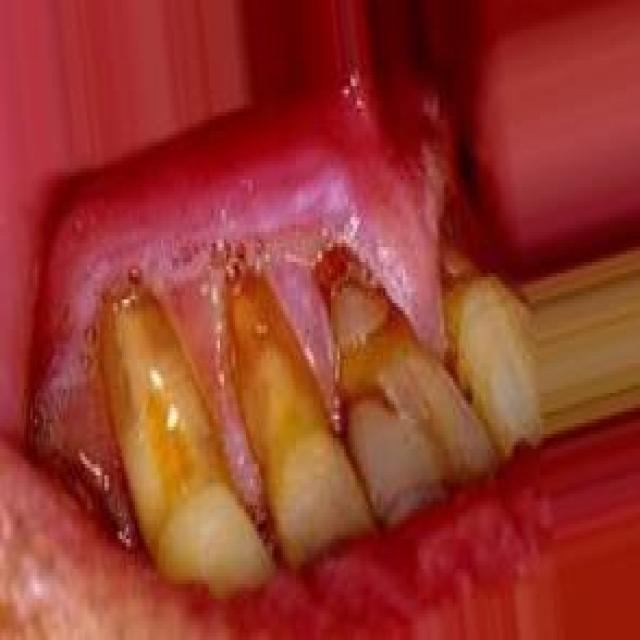caries: (318, 236, 412, 398)
